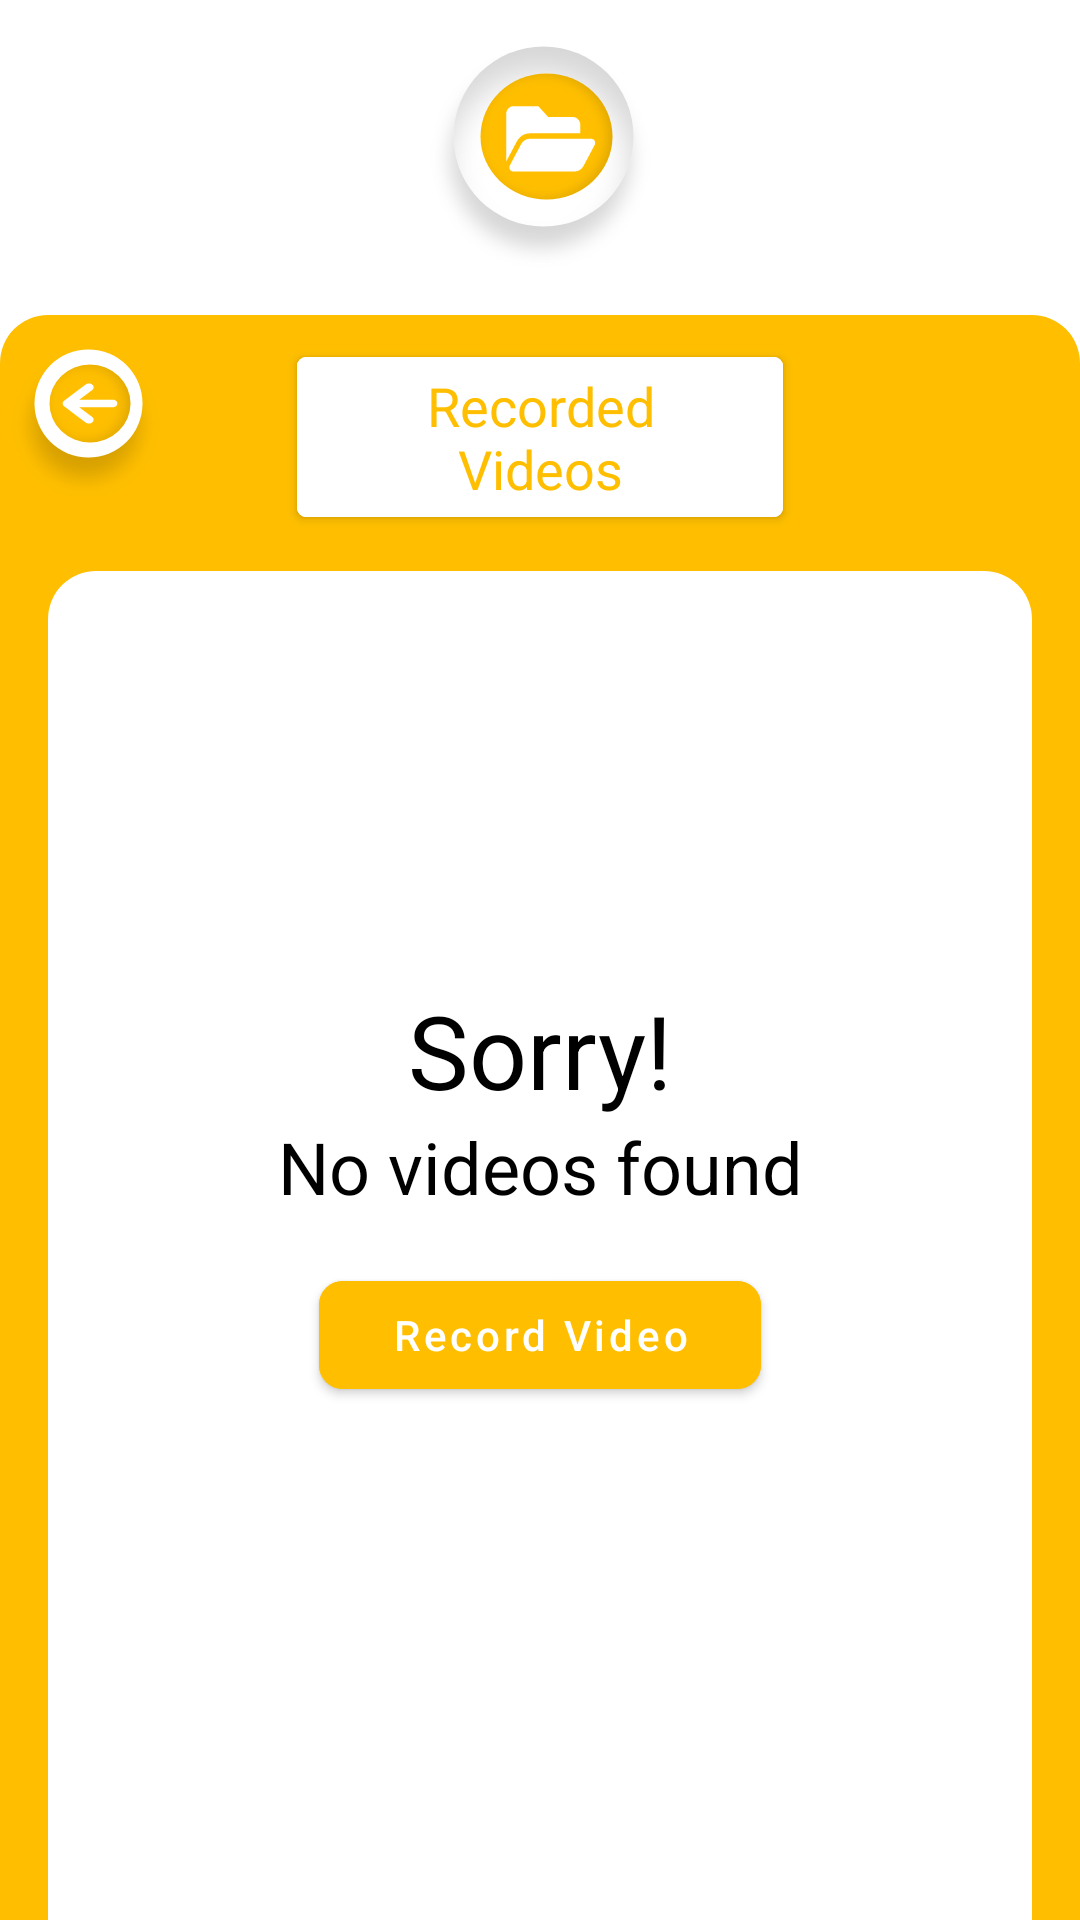

Screen size 1080px x 1920px. Icon name, then its center in pixels as [x,y]:
back: [88,412]
file: [543,145]
